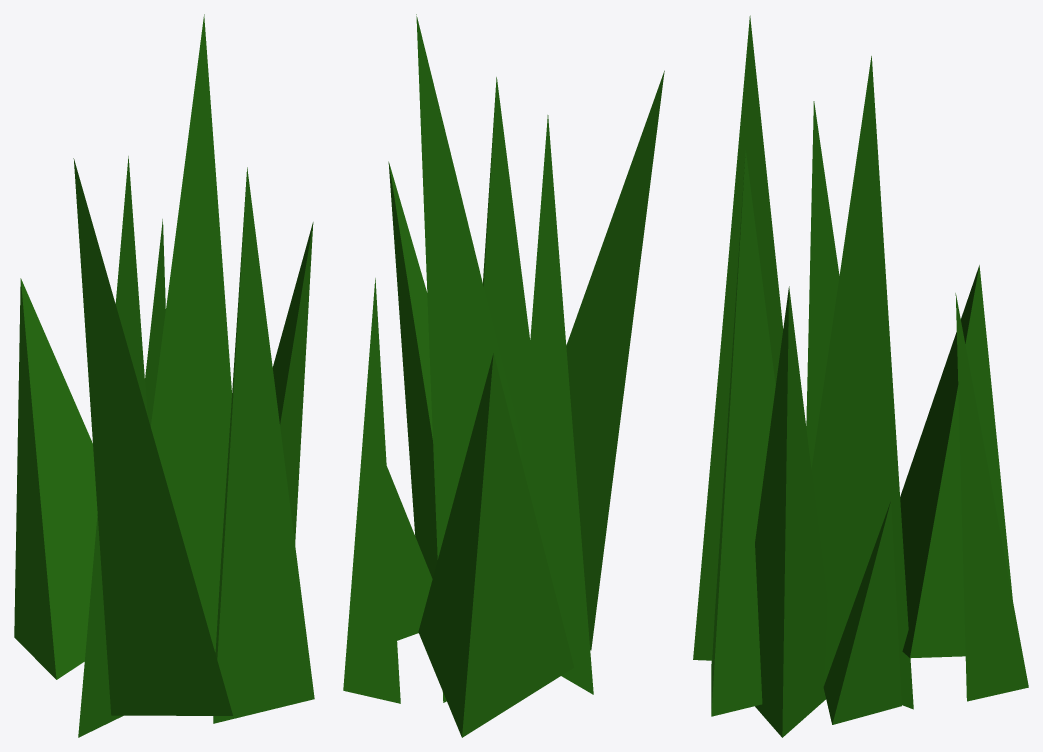
The model's file is hierba_2.fbx.
The picture shows the model from 3 angles, left to right: view 1: azimuth 30°, elevation 25°; view 2: azimuth 150°, elevation 25°; view 3: azimuth 270°, elevation 25°; orthographic projection. The views are drawn at different scales.
Visible parts, largest first — view 1: grass2; view 2: grass2; view 3: grass2.
Boxes of the visible parts, <box> form: grass2: <box>14,14,314,737</box>; grass2: <box>343,14,664,737</box>; grass2: <box>693,15,1028,737</box>.
Size of the model in its own units: 30 by 73.93 by 33.11.
